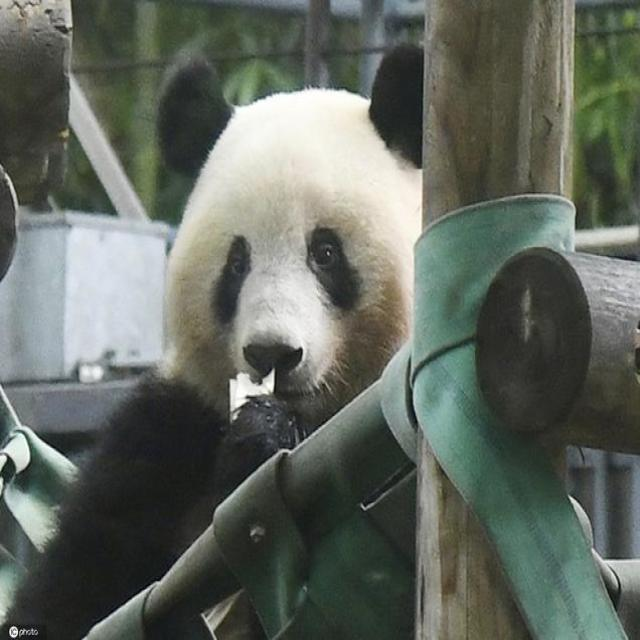panda: (139, 19, 461, 489)
